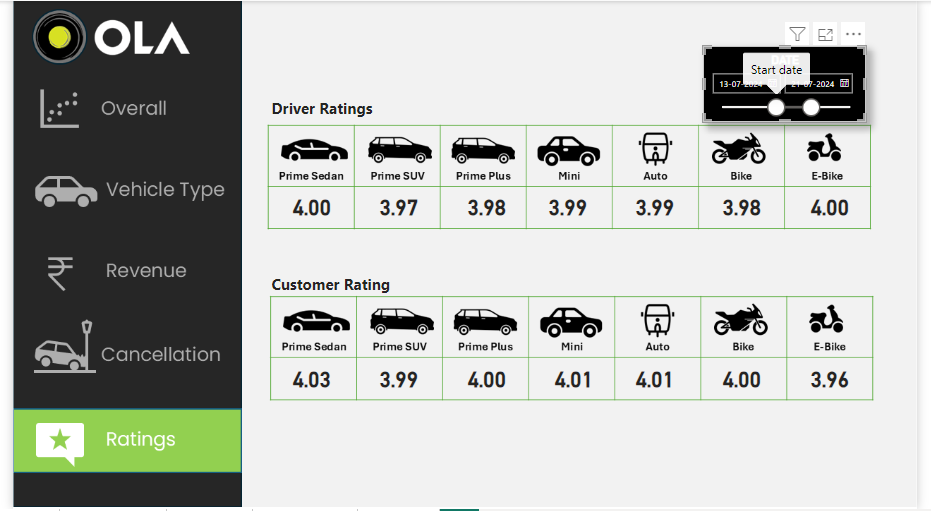

Layout of this report page (visuals, bound fields, positions):
{"tool":"powerbi","page":{"name":"Ratings","canvas":[1280,720],"ordinal":4},"visuals":[{"type":"actionButton","box":[0,225.4,323.1,87.9],"z":0},{"type":"actionButton","box":[0,337.3,323.1,87.9],"z":1000},{"type":"actionButton","box":[0,452.1,323.1,87.9],"z":2000},{"type":"actionButton","box":[1.4,107.7,318.9,87.9],"z":3000},{"type":"card","fields":{"Values":["Avg(July.Driver_Ratings)"]},"box":[361.2,260,123.8,63.8],"z":3001},{"type":"card","fields":{"Values":["Avg(July.Driver_Ratings)"]},"box":[485,260,123.8,63.8],"z":3002},{"type":"card","fields":{"Values":["Avg(July.Driver_Ratings)"]},"box":[608.8,260,123.8,63.8],"z":3003},{"type":"card","fields":{"Values":["Avg(July.Driver_Ratings)"]},"box":[723.8,260,123.8,63.8],"z":3004},{"type":"card","fields":{"Values":["Avg(July.Driver_Ratings)"]},"box":[847.5,260,123.8,63.8],"z":3005},{"type":"card","fields":{"Values":["Avg(July.Driver_Ratings)"]},"box":[971.2,260,123.8,63.8],"z":3006},{"type":"card","fields":{"Values":["Avg(July.Driver_Ratings)"]},"box":[1095,260,123.8,63.8],"z":3007},{"type":"card","fields":{"Values":["Avg(July.Customer_Rating)"]},"box":[361.2,507.5,123.8,55],"z":3009},{"type":"textbox","box":[361.2,131.2,163.8,40],"z":3014},{"type":"textbox","box":[361.2,381.2,186.2,40],"z":3015},{"type":"card","fields":{"Values":["Avg(July.Customer_Rating)"]},"box":[485,507.5,123.8,55],"z":3016},{"type":"card","fields":{"Values":["Avg(July.Customer_Rating)"]},"box":[608.8,507.5,123.8,55],"z":3017},{"type":"card","fields":{"Values":["Avg(July.Customer_Rating)"]},"box":[732.5,507.5,123.8,55],"z":3018},{"type":"card","fields":{"Values":["Avg(July.Customer_Rating)"]},"box":[847.5,507.5,123.8,55],"z":3019},{"type":"card","fields":{"Values":["Avg(July.Customer_Rating)"]},"box":[971.2,507.5,123.8,55],"z":3020},{"type":"card","fields":{"Values":["Avg(July.Customer_Rating)"]},"box":[1095,507.5,123.8,55],"z":3021},{"type":"slicer","title":"DATE","fields":{"Values":["July.Date"]},"box":[987.5,0,231.2,107.5],"z":3022}]}

Visuals, with their boxes in screenshot pixels (x1, y1, x2, y2), scaled from the page's 1280x720 canvas onto the 931x511 screenshot:
actionButton: {"x1": 0, "y1": 160, "x2": 235, "y2": 222}
actionButton: {"x1": 0, "y1": 239, "x2": 235, "y2": 302}
actionButton: {"x1": 0, "y1": 321, "x2": 235, "y2": 383}
actionButton: {"x1": 1, "y1": 76, "x2": 233, "y2": 139}
card - Avg(July.Driver_Ratings): {"x1": 263, "y1": 185, "x2": 353, "y2": 230}
card - Avg(July.Driver_Ratings): {"x1": 353, "y1": 185, "x2": 443, "y2": 230}
card - Avg(July.Driver_Ratings): {"x1": 443, "y1": 185, "x2": 533, "y2": 230}
card - Avg(July.Driver_Ratings): {"x1": 526, "y1": 185, "x2": 616, "y2": 230}
card - Avg(July.Driver_Ratings): {"x1": 616, "y1": 185, "x2": 706, "y2": 230}
card - Avg(July.Driver_Ratings): {"x1": 706, "y1": 185, "x2": 796, "y2": 230}
card - Avg(July.Driver_Ratings): {"x1": 796, "y1": 185, "x2": 886, "y2": 230}
card - Avg(July.Customer_Rating): {"x1": 263, "y1": 360, "x2": 353, "y2": 399}
textbox: {"x1": 263, "y1": 93, "x2": 382, "y2": 122}
textbox: {"x1": 263, "y1": 271, "x2": 398, "y2": 299}
card - Avg(July.Customer_Rating): {"x1": 353, "y1": 360, "x2": 443, "y2": 399}
card - Avg(July.Customer_Rating): {"x1": 443, "y1": 360, "x2": 533, "y2": 399}
card - Avg(July.Customer_Rating): {"x1": 533, "y1": 360, "x2": 623, "y2": 399}
card - Avg(July.Customer_Rating): {"x1": 616, "y1": 360, "x2": 706, "y2": 399}
card - Avg(July.Customer_Rating): {"x1": 706, "y1": 360, "x2": 796, "y2": 399}
card - Avg(July.Customer_Rating): {"x1": 796, "y1": 360, "x2": 886, "y2": 399}
"DATE" slicer: {"x1": 718, "y1": 0, "x2": 886, "y2": 76}
